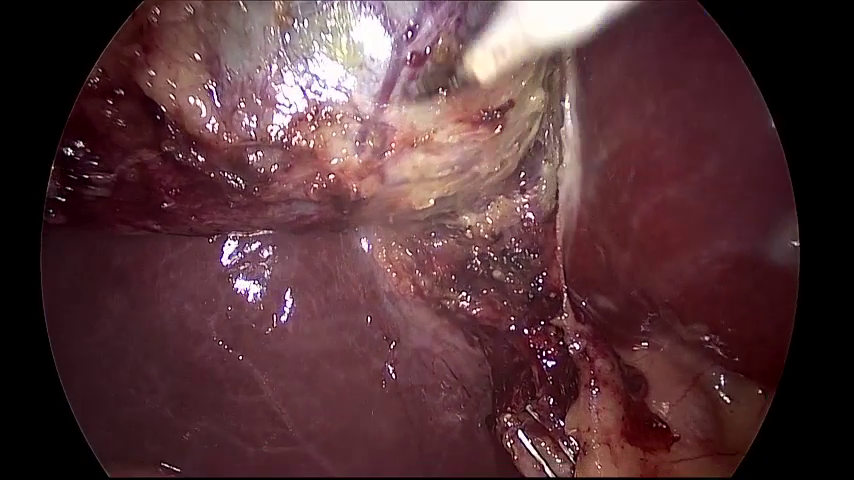lhook: (427, 1, 639, 88)
